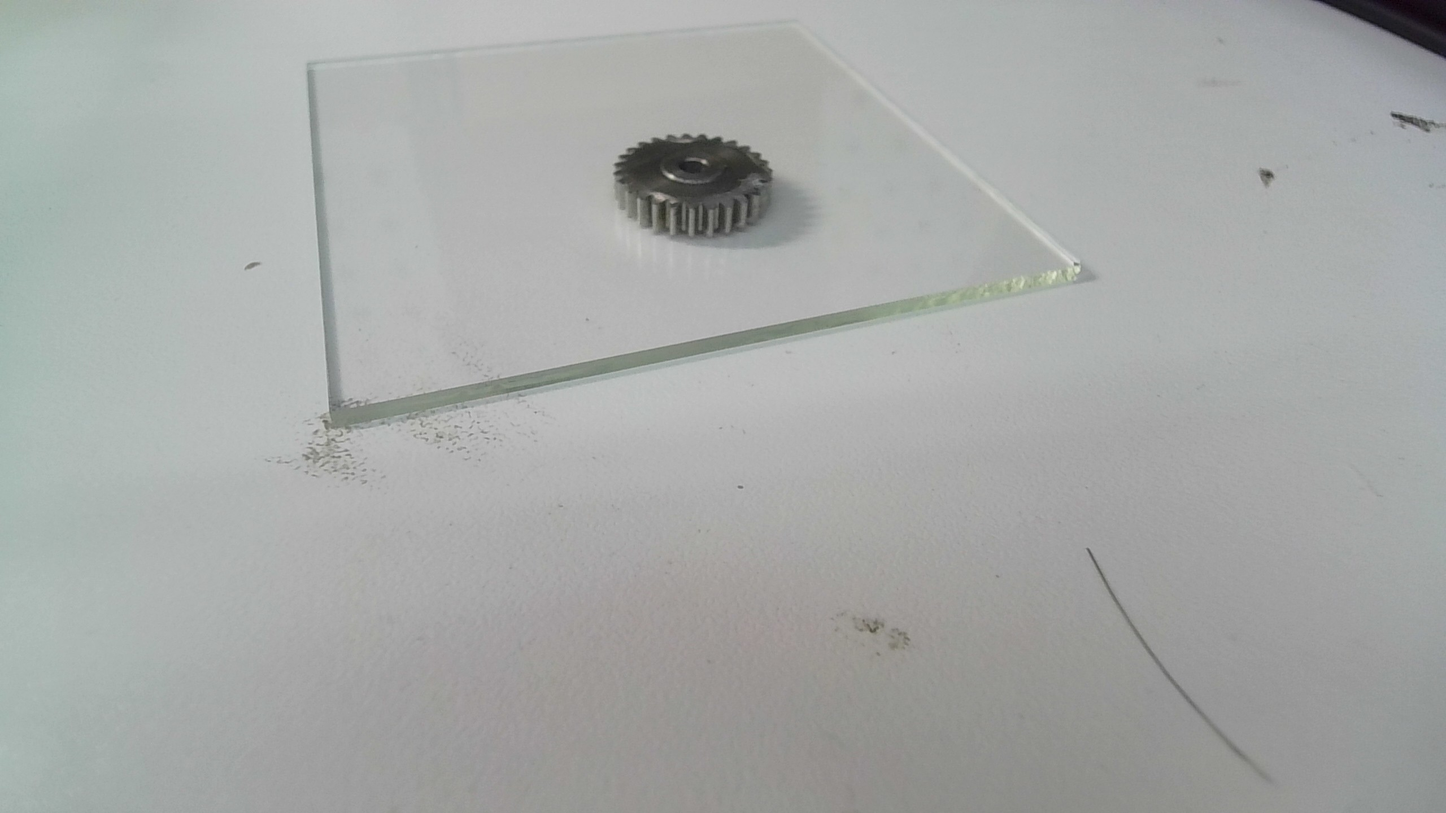gear: (611, 129, 776, 243)
